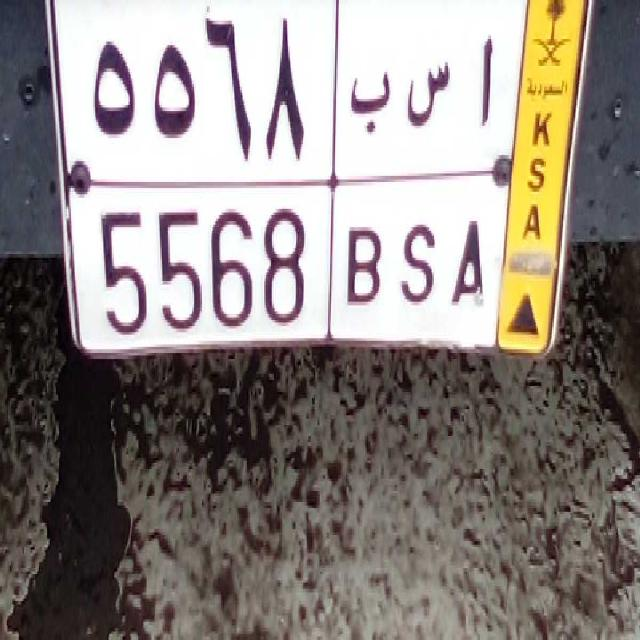license_plate: (78, 175, 498, 401)
